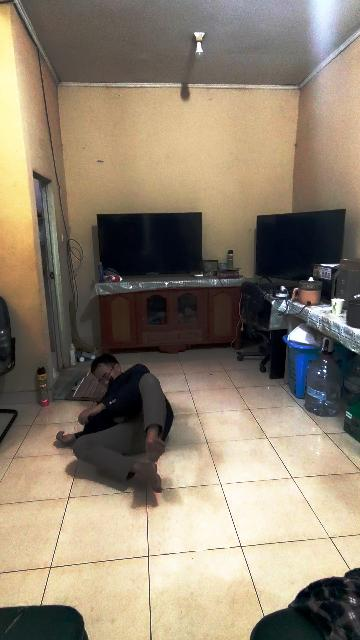jatuh: (49, 351, 171, 499)
